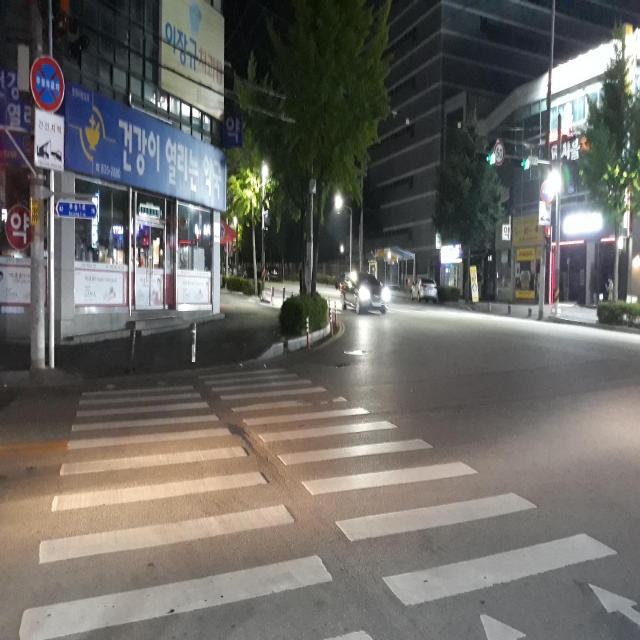횡단보도: (15, 359, 640, 640)
